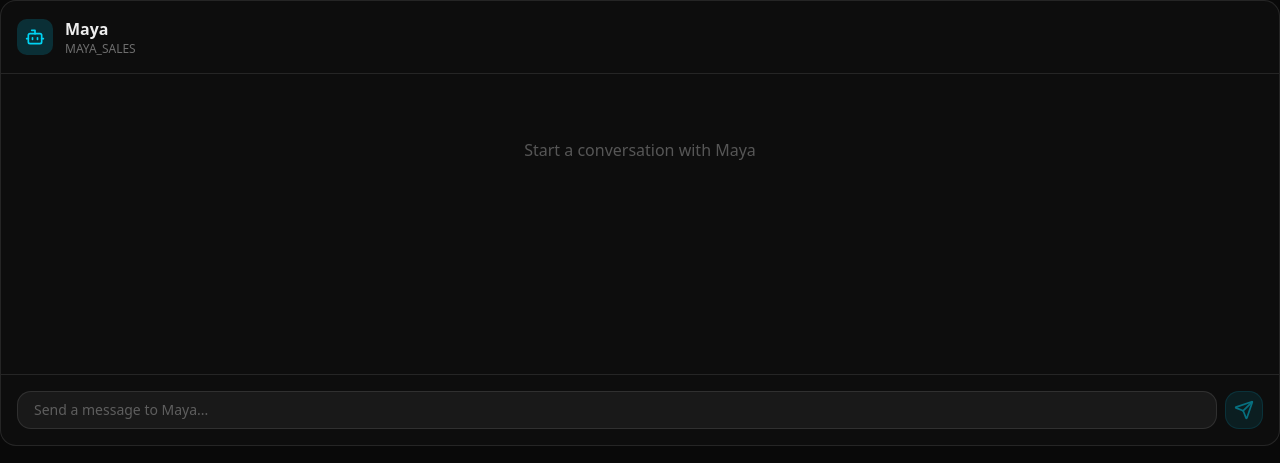
Test case: AgentChat › clears input after sending
The width and height of the screenshot is (1280, 463).
Type "Test message" into the field with placeholder "Send a message to Maya..." at {"x": 617, "y": 410}, box top-left (17, 391), bottom-right (1217, 429)
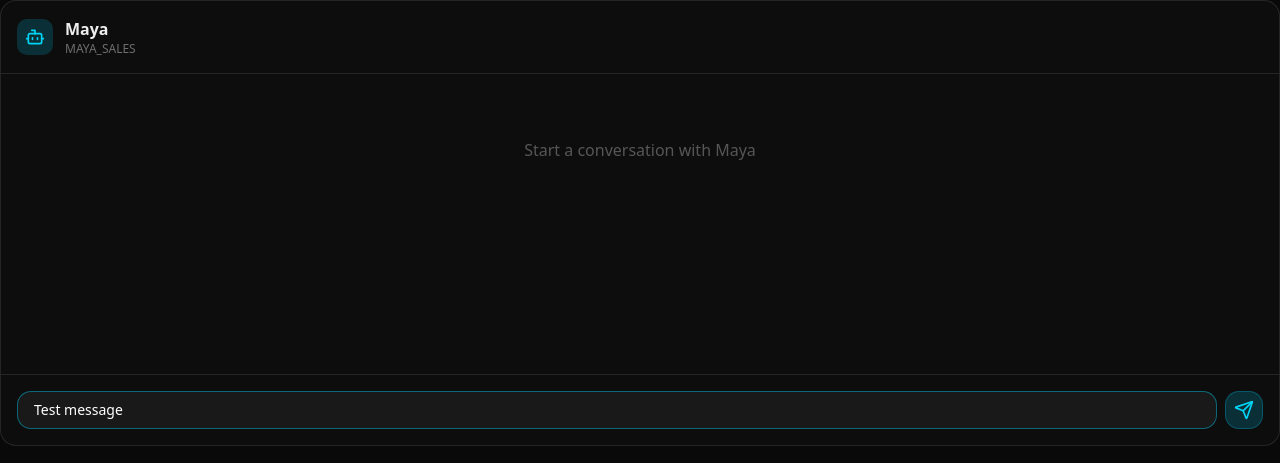
Click the button named "send" at {"x": 1244, "y": 410}, box top-left (1225, 391), bottom-right (1263, 429)
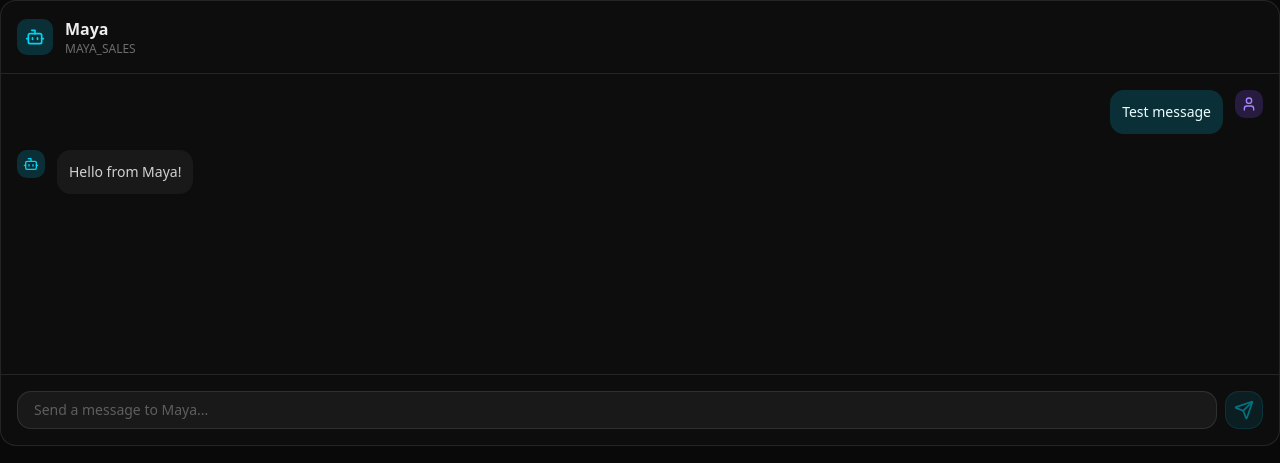
Now the field with placeholder "Send a message to Maya..." is empty, box top-left (17, 391), bottom-right (1217, 429)
